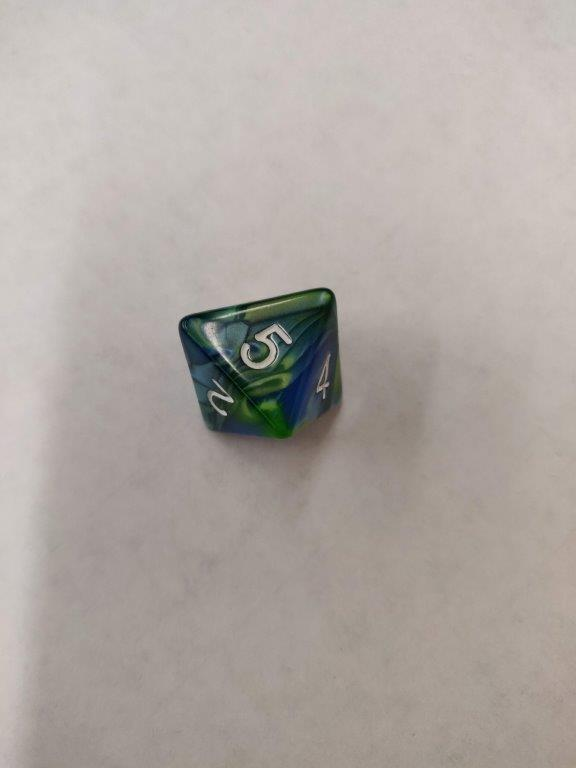d8-5: (178, 286, 348, 437)
